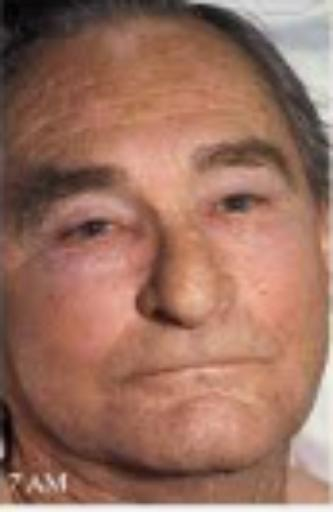left_eye: (202, 193, 270, 224)
left_lip_corner: (249, 348, 279, 376)
right_eye: (59, 216, 134, 243)
right_lip_corner: (113, 362, 157, 390)
